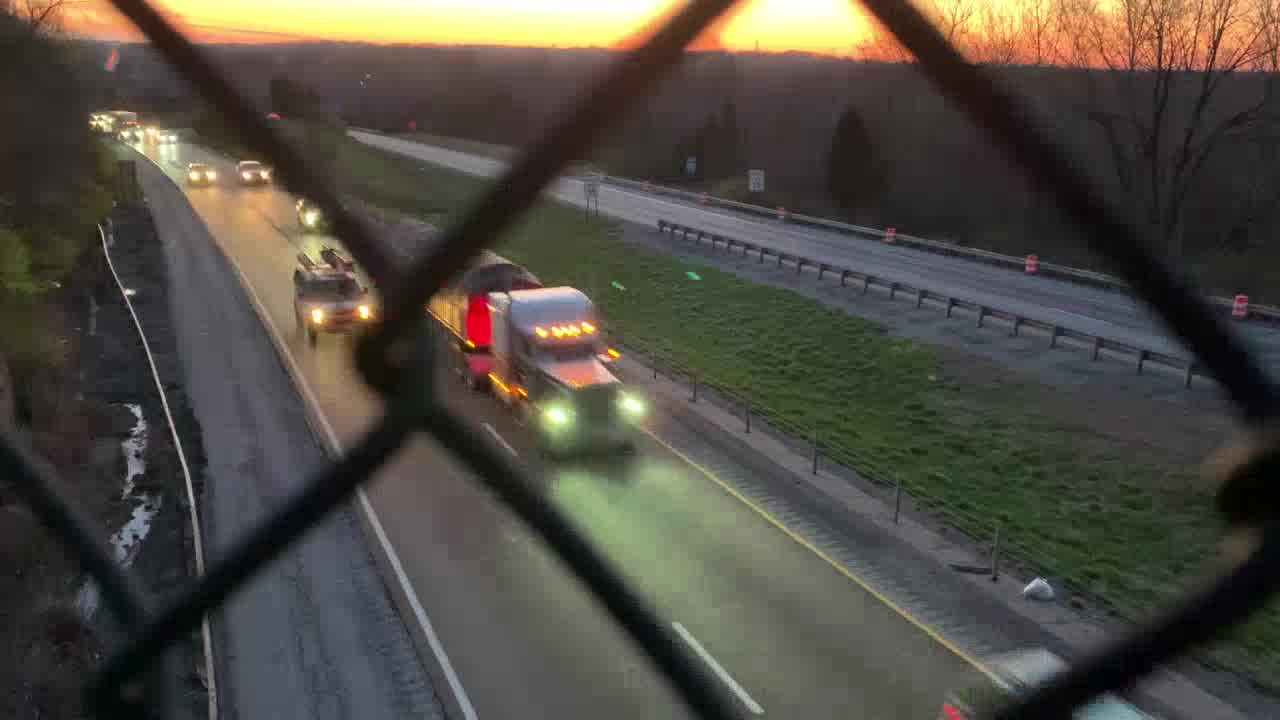heavyTruck: (387, 220, 647, 458)
largeCar: (292, 242, 374, 340)
